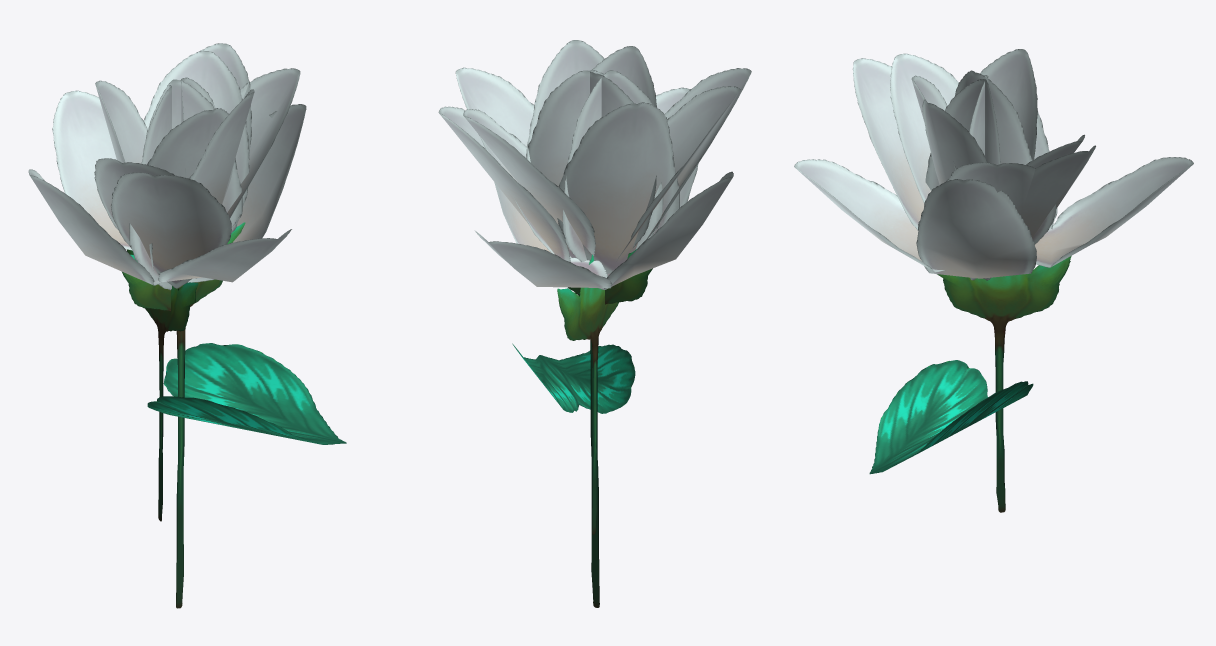
File: WhiteFlower_02.fbx
3 renders of one model, left to right at view 1: azimuth 30°, elevation 25°; view 2: azimuth 150°, elevation 25°; view 3: azimuth 270°, elevation 25°, orthographic. The views are drawn at different scales.
Parts seen in each view (by area): view 1: JasminePetal001, FlowerHolder002; view 2: JasminePetal001, FlowerHolder002; view 3: JasminePetal001, FlowerHolder002.
Boxes of the visible parts, bbox=[...] form: JasminePetal001: bbox=[28, 43, 346, 608]; FlowerHolder002: bbox=[127, 249, 198, 521]; JasminePetal001: bbox=[438, 40, 751, 607]; FlowerHolder002: bbox=[557, 254, 618, 534]; JasminePetal001: bbox=[794, 49, 1193, 474]; FlowerHolder002: bbox=[937, 256, 1071, 512].
Bounding box in the file's own units: 6.21 × 10.19 × 7.02.
